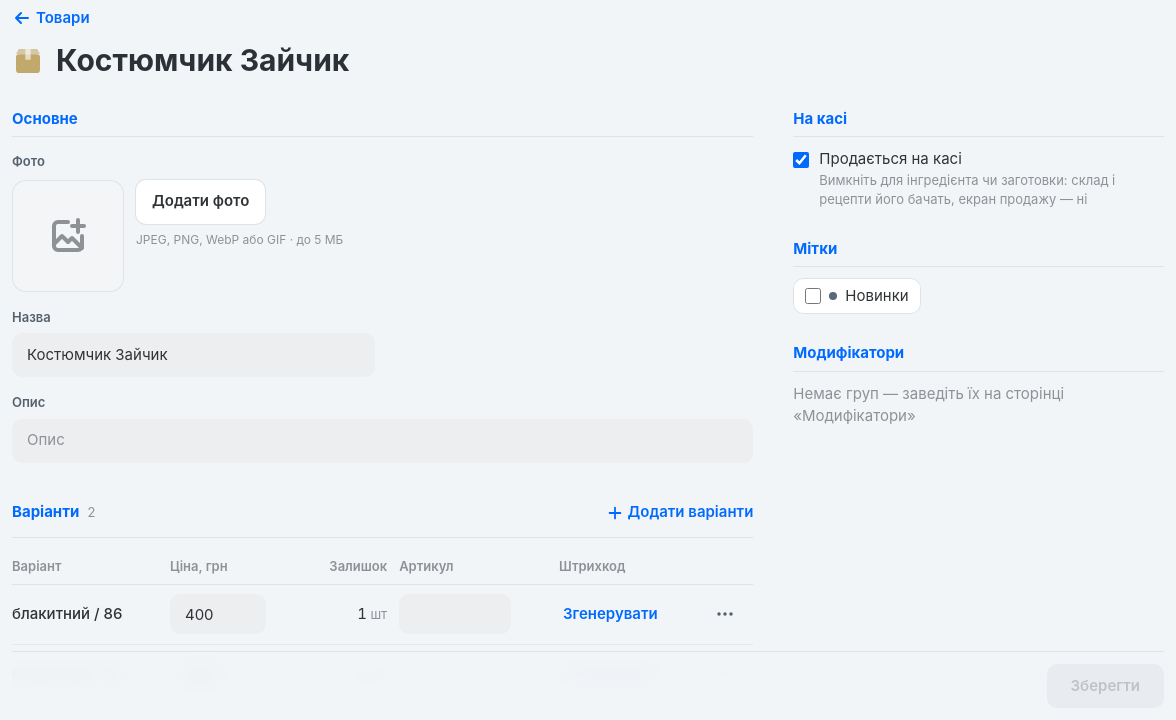
what a save writes › writes ONE variant when one price changed — and nothing about the product
Replace the text in the field named "Ціна · блакитний / 86" with "450" at {"x": 218, "y": 614}, box [170,594,266,634]
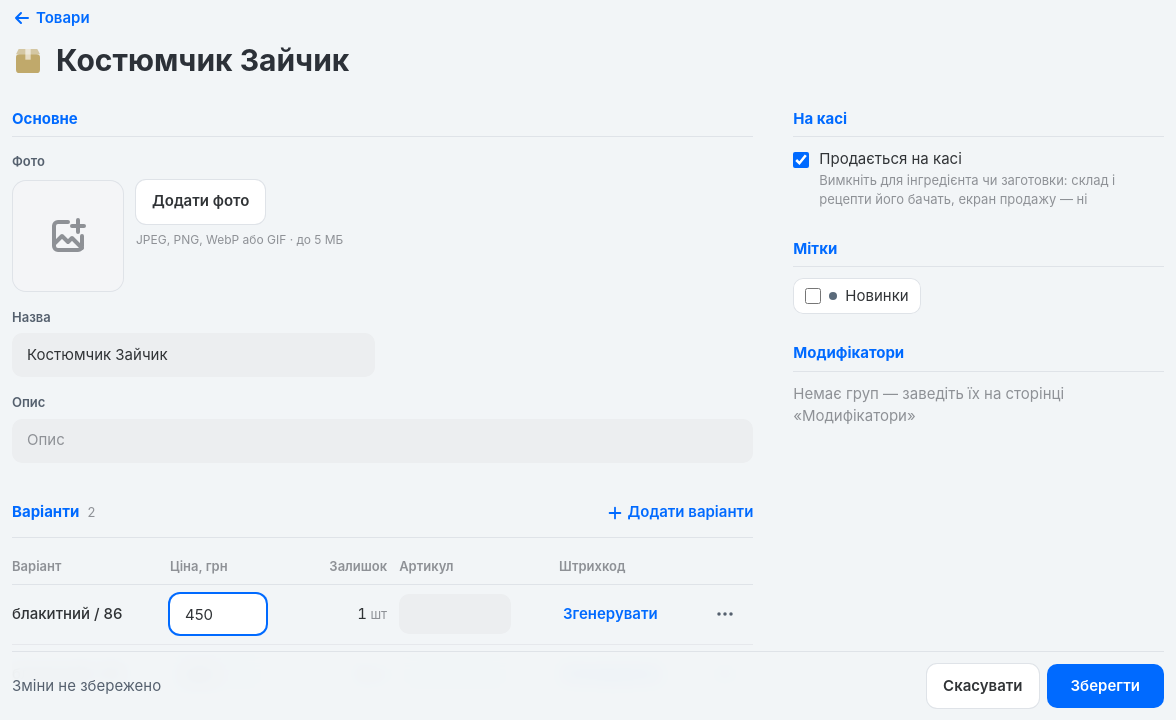
Click the button "Зберегти" at {"x": 1105, "y": 686}, box [1046,664,1164,708]
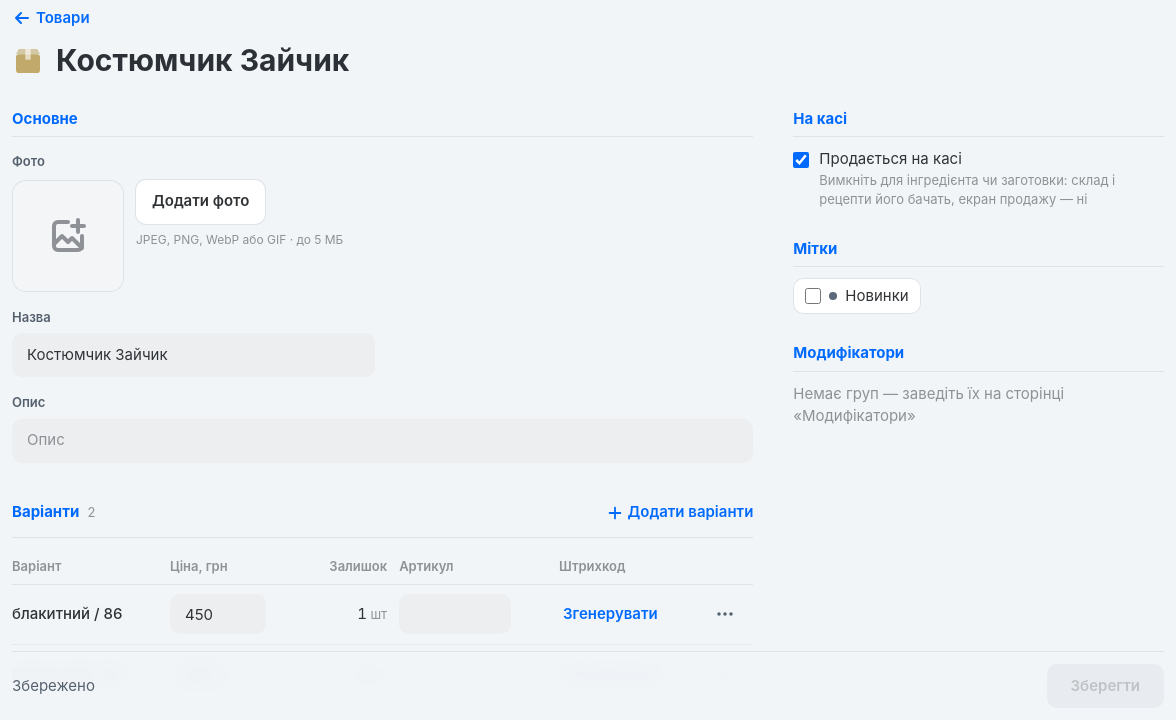
Check: the text "Збережено" is shown, box [12,675,95,697]
Check: the button "Зберегти" is disabled, box [1046,664,1164,708]
